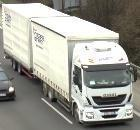car: (0, 69, 16, 101)
truck: (2, 4, 134, 123)
